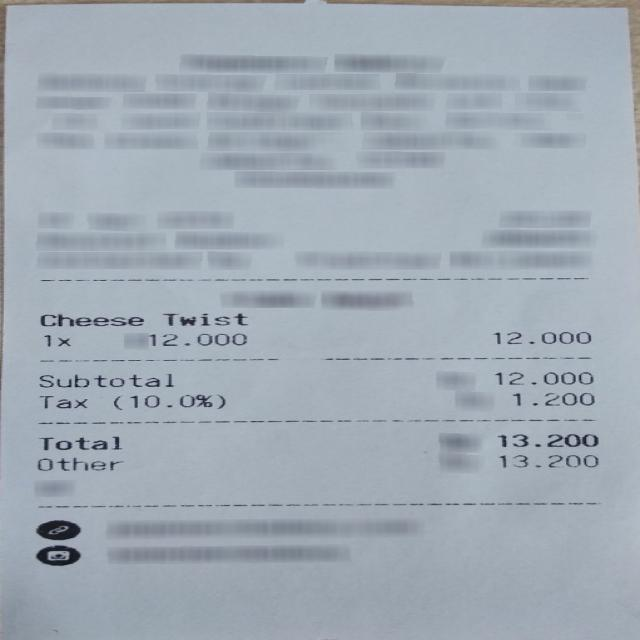text: (37, 372, 172, 386), (113, 394, 223, 408), (499, 453, 596, 467), (497, 433, 596, 446), (494, 371, 591, 384), (39, 313, 141, 325), (492, 331, 589, 343), (148, 333, 244, 345), (162, 312, 244, 326), (38, 435, 119, 449), (36, 457, 120, 470), (512, 392, 592, 404), (39, 396, 85, 408), (42, 334, 68, 346)
